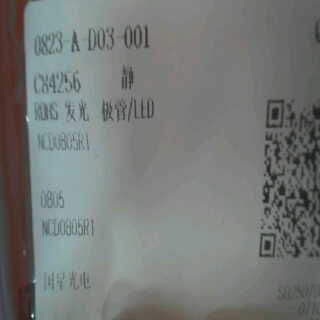LED: (59, 98, 171, 122)
